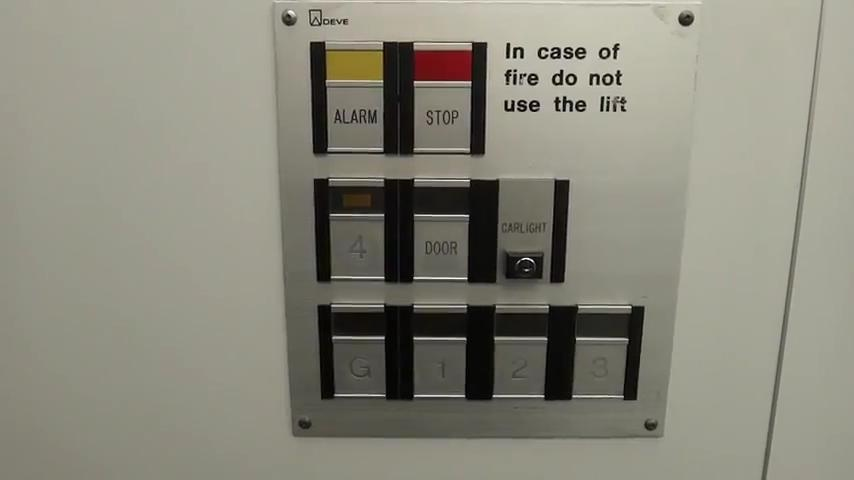1: (409, 332, 471, 403)
2: (489, 331, 551, 402)
3: (568, 331, 631, 406)
4: (325, 207, 390, 286)
G: (328, 331, 390, 402)
keyhole: (500, 248, 548, 282)
text: (323, 78, 388, 157), (409, 77, 474, 156), (409, 209, 474, 285)
